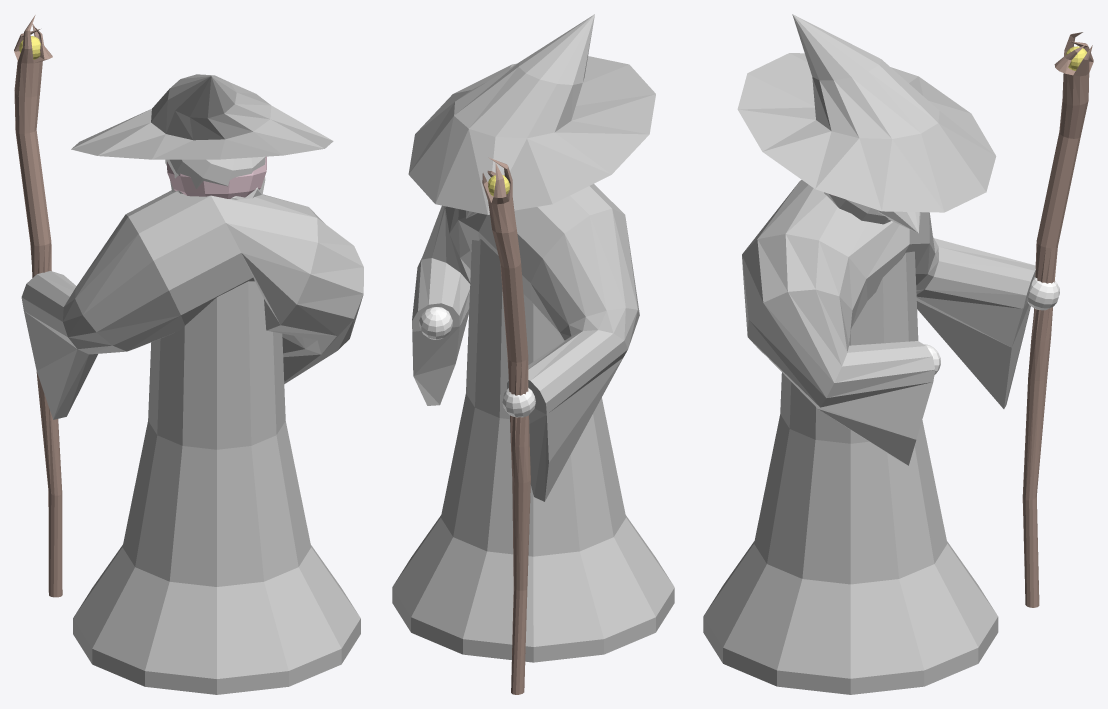
File: teacher.glb
3 renders of one model, left to right at view 1: azimuth 30°, elevation 25°; view 2: azimuth 150°, elevation 25°; view 3: azimuth 270°, elevation 25°, orthographic. The views are drawn at different scales.
Visible parts, largest first — view 1: group1309011883, group824433891, group3867100, group1429320170, group612508395, group1981567642; view 2: group1309011883, group824433891, group3867100, group1429320170, group228262806, group1818719926; view 3: group1309011883, group824433891, group3867100, group1429320170, group1818719926, group343612190.
Part boxes in pixels (x1,y1,x2,y2): group1309011883: (73,281,360,694); group824433891: (21,190,363,419); group3867100: (71,74,333,159); group1429320170: (14,15,62,597); group612508395: (165,156,265,188); group1981567642: (167,156,266,198); group1309011883: (392,239,674,662); group824433891: (412,184,639,501); group3867100: (408,14,655,214); group1429320170: (482,158,530,694); group228262806: (419,307,452,339); group1818719926: (502,388,535,417); group1309011883: (703,251,998,694); group824433891: (742,180,1035,465); group3867100: (737,14,996,212); group1429320170: (1022,32,1093,607); group1818719926: (1027,277,1059,310); group343612190: (824,192,890,224).
Bounding box in the file's own units: 0.3321 × 0.7536 × 0.4368.
